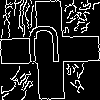U: (25, 25, 63, 73)
